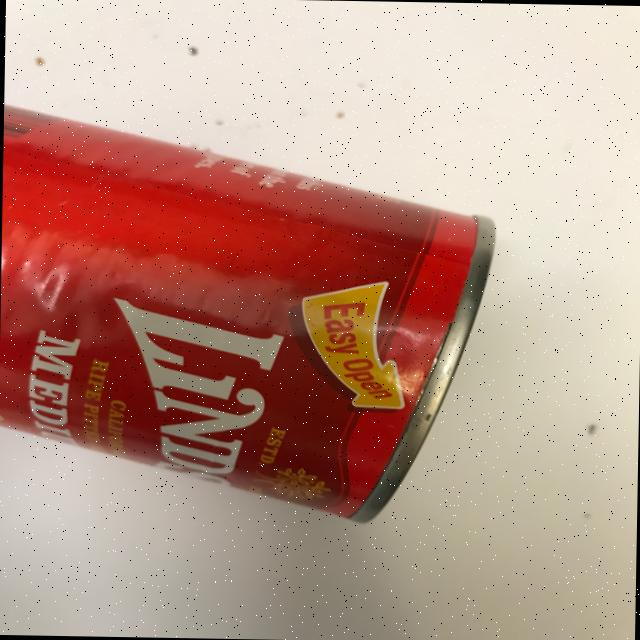metal: (0, 102, 498, 525)
